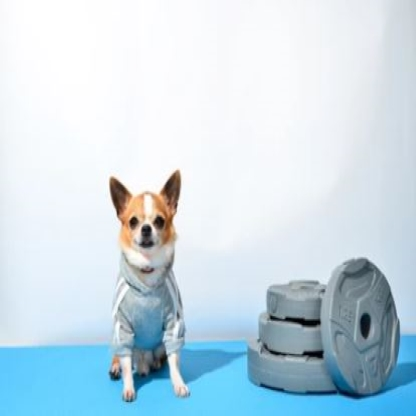chihuahua: (101, 168, 193, 402)
